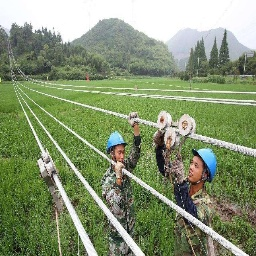helmet: (195, 147, 218, 183), (106, 133, 128, 157)
person: (174, 139, 220, 256), (99, 129, 141, 256)
